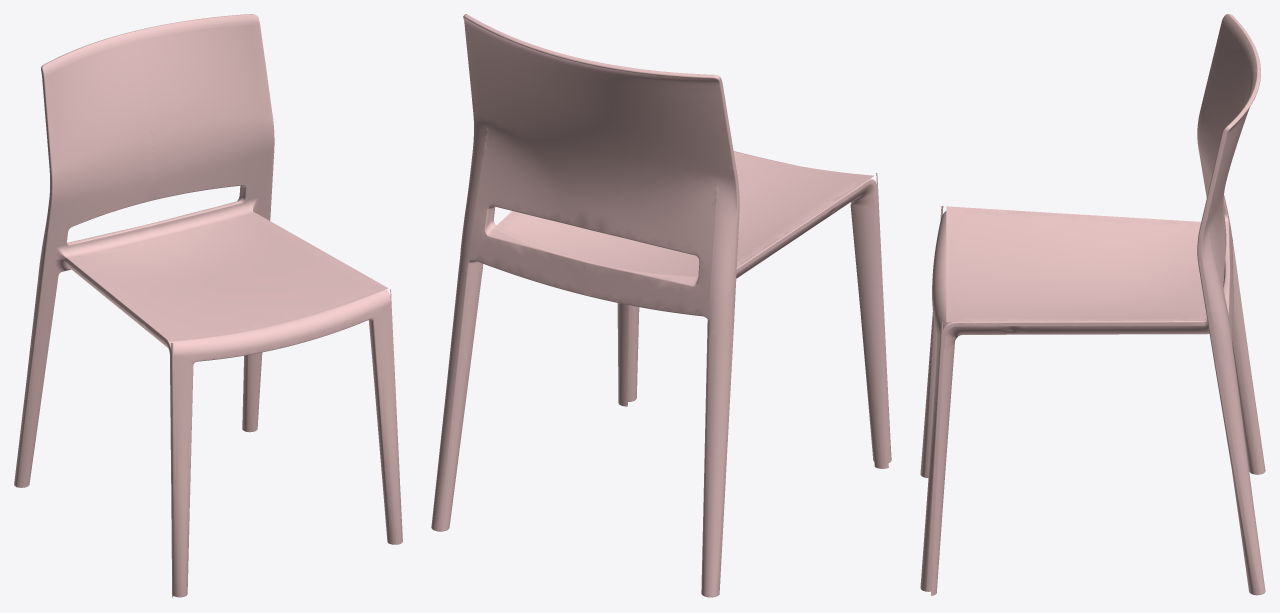
3 renders of one model, left to right at view 1: azimuth 30°, elevation 25°; view 2: azimuth 150°, elevation 25°; view 3: azimuth 270°, elevation 25°, orthographic. The views are drawn at different scales.
Visible parts, largest first — view 1: fa2bf9ab-b7a6-4dcb-a9a9-f848113f0d6c; view 2: fa2bf9ab-b7a6-4dcb-a9a9-f848113f0d6c; view 3: fa2bf9ab-b7a6-4dcb-a9a9-f848113f0d6c.
Part boxes in pixels (box(x1,y1,x2,y2)): fa2bf9ab-b7a6-4dcb-a9a9-f848113f0d6c: box(14, 14, 402, 597); fa2bf9ab-b7a6-4dcb-a9a9-f848113f0d6c: box(431, 14, 891, 597); fa2bf9ab-b7a6-4dcb-a9a9-f848113f0d6c: box(920, 14, 1265, 595).
Size of the model in its own units: 0.4734 by 0.8061 by 0.5408.
